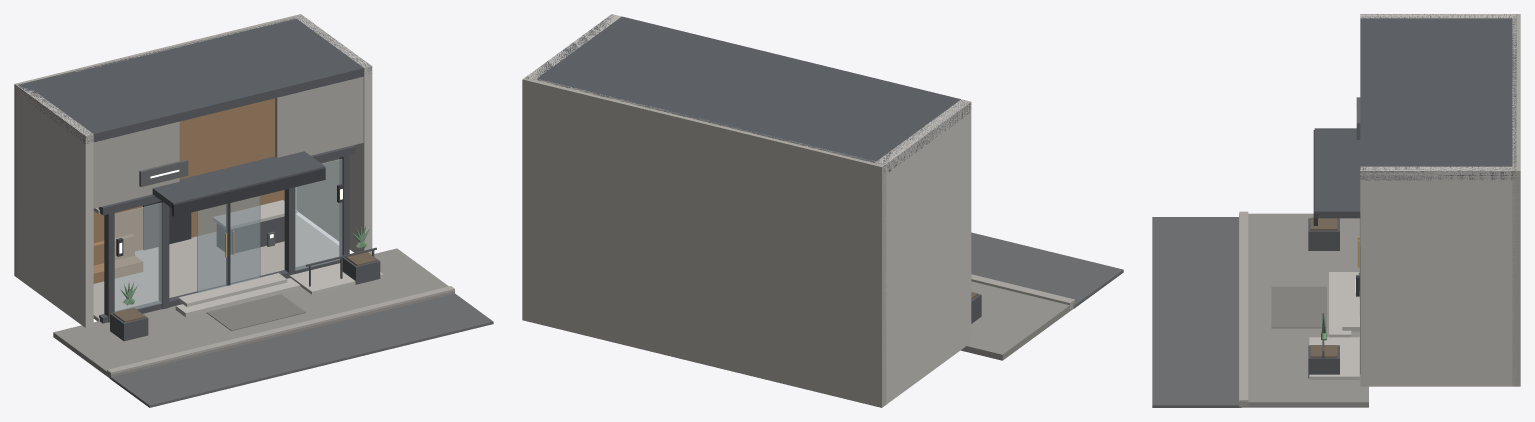
The model's file is apartment.glb.
The picture shows the model from 3 angles, left to right: view 1: azimuth 30°, elevation 25°; view 2: azimuth 150°, elevation 25°; view 3: azimuth 270°, elevation 25°; orthographic projection. The views are drawn at different scales.
Visible parts, largest first — view 1: Roof_Slab, Left_Wall, Road_Pad, Forecourt, Lobby_Floor, Right_Wall, Upper_Facade_Right, Upper_Facade_Center, Upper_Facade_Left, Glass_Left, Glass_Right, Canopy_Main (+24 smaller); view 2: Rear_Wall, Roof_Slab, Left_Wall, Road_Pad, Forecourt, Right_Wall, Curb; view 3: Right_Wall, Roof_Slab, Road_Pad, Forecourt, Canopy_Main, Rear_Wall, Handoff_Zone, Curb, Ramp, Step_1, Step_2, Left_Wall (+3 smaller).
Part boxes in pixels (x1,y1,x2,y2): Roof_Slab: (17,16,371,143); Left_Wall: (16,85,93,327); Road_Pad: (110,293,493,407); Forecourt: (53,248,454,378); Lobby_Floor: (93,214,349,321); Right_Wall: (295,16,372,254); Upper_Facade_Right: (275,76,363,157); Upper_Facade_Center: (179,98,274,179); Upper_Facade_Left: (93,121,179,208); Glass_Left: (114,203,162,311); Glass_Right: (295,158,342,270); Canopy_Main: (152,151,325,208); Rear_Wall: (522,76,886,407); Roof_Slab: (525,14,971,173); Left_Wall: (875,99,971,405); Road_Pad: (971,232,1123,308); Forecourt: (960,281,1075,360); Right_Wall: (525,14,621,79); Curb: (971,274,1074,309); Right_Wall: (1360,166,1516,386); Roof_Slab: (1360,14,1516,180); Road_Pad: (1152,217,1241,407); Forecourt: (1239,213,1368,407); Canopy_Main: (1314,128,1360,218); Rear_Wall: (1512,14,1520,386); Handoff_Zone: (1271,286,1326,328); Curb: (1239,211,1248,406); Ramp: (1309,337,1359,379); Step_1: (1329,272,1351,337); Step_2: (1342,272,1359,331); Left_Wall: (1360,14,1516,18).
Bounding box in the file's own units: 12 × 6.57 × 9.91.
